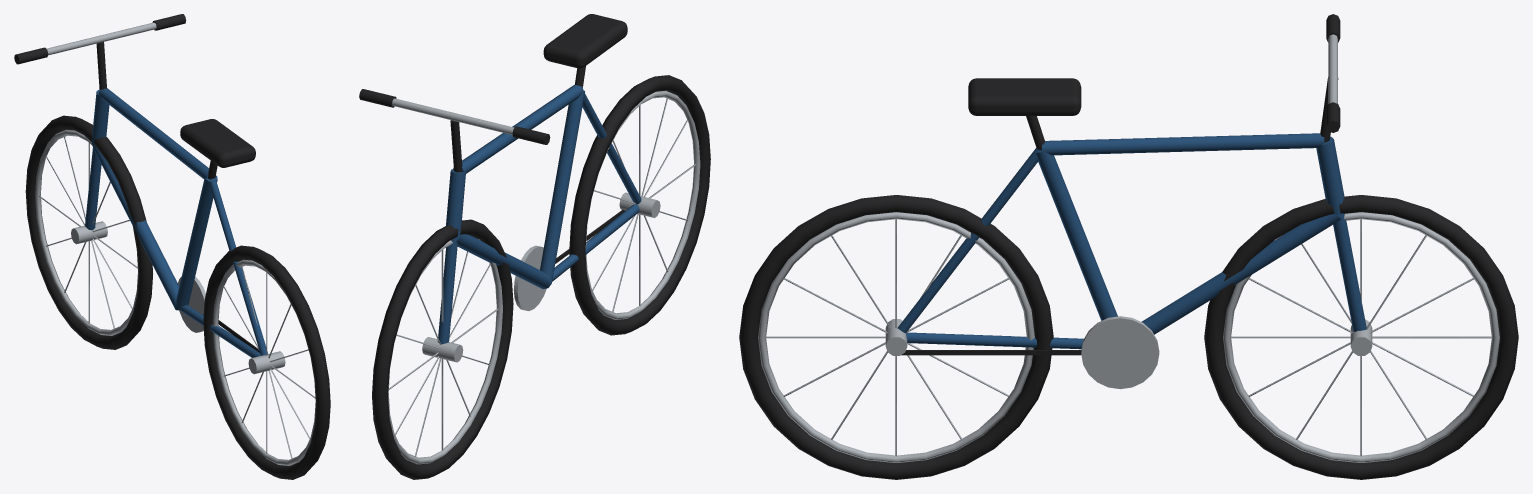
Rendered from BICYCLE.glb.
3 renders of one model, left to right at view 1: azimuth 30°, elevation 25°; view 2: azimuth 150°, elevation 25°; view 3: azimuth 270°, elevation 25°, orthographic. The views are drawn at different scales.
Parts seen in each view (by area): view 1: tread_0, steel_1, paint_2; view 2: tread_0, steel_1, paint_2; view 3: tread_0, steel_1, paint_2.
Boxes of the visible parts, x1=… form: tread_0: x1=14, y1=14, x2=330, y2=479; steel_1: x1=35, y1=22, x2=315, y2=465; paint_2: x1=85, y1=88, x2=268, y2=357; tread_0: x1=359, y1=14, x2=710, y2=479; steel_1: x1=388, y1=90, x2=700, y2=464; paint_2: x1=437, y1=85, x2=641, y2=344; tread_0: x1=739, y1=14, x2=1518, y2=479; steel_1: x1=758, y1=34, x2=1499, y2=462; paint_2: x1=897, y1=133, x2=1366, y2=349.
Size of the model in its own units: 0.58 by 1.05 by 1.79.
